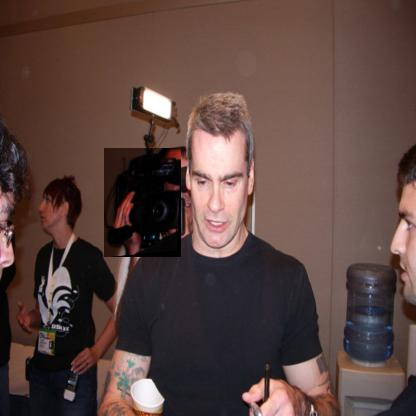Camera: (105, 149, 183, 259)
